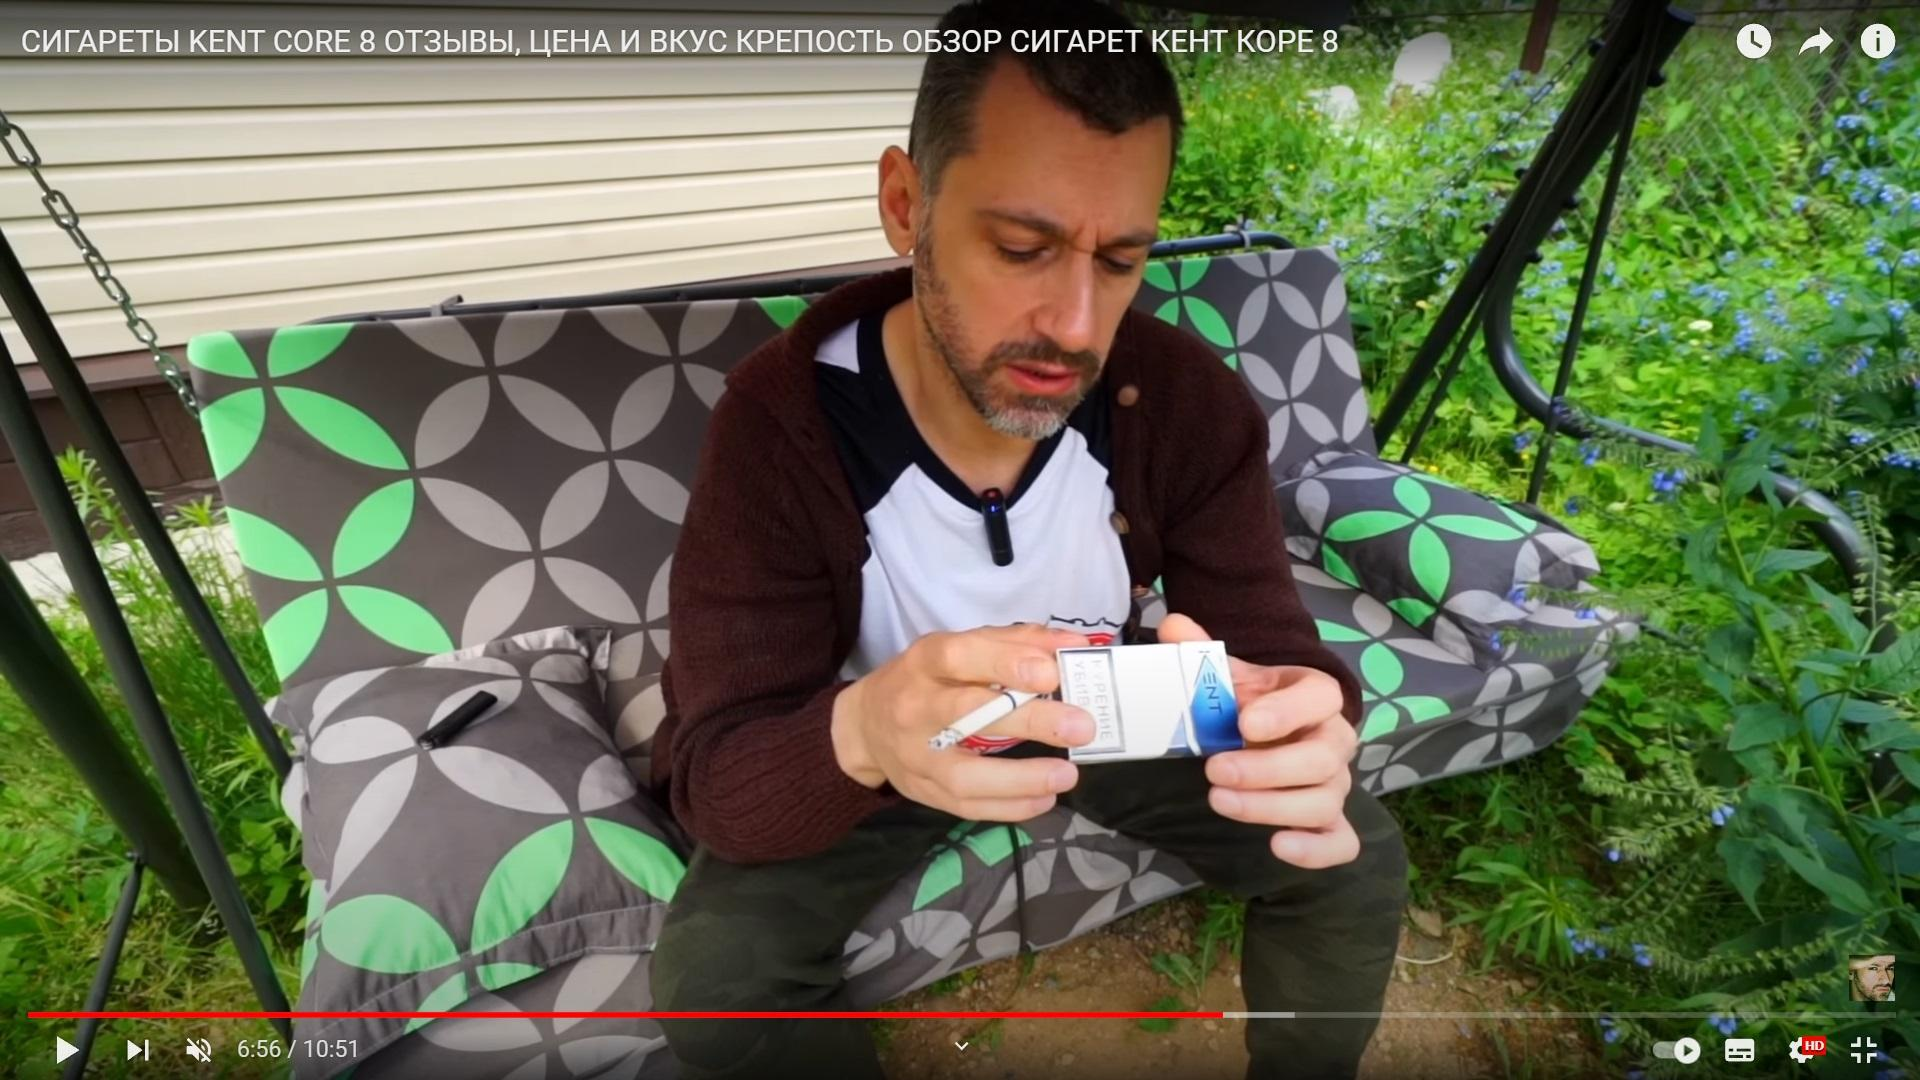cigarette: (927, 688, 1044, 750)
